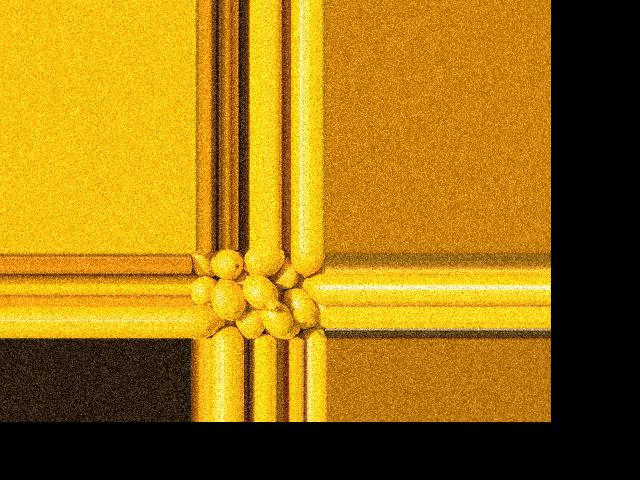lemon: (263, 303, 296, 338)
